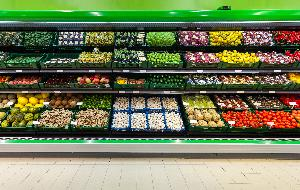apple: (76, 72, 114, 88)
bell_pepper: (272, 29, 300, 44), (282, 94, 300, 110), (286, 49, 300, 62), (288, 72, 300, 84)
cucumber: (148, 73, 184, 87)
lime: (81, 96, 112, 108)
peach: (5, 73, 41, 85), (1, 73, 9, 85)
pineapple: (0, 31, 22, 47)
tomato: (220, 110, 264, 128), (256, 110, 300, 128), (216, 50, 258, 64), (248, 96, 284, 112), (242, 30, 274, 48), (216, 96, 248, 113), (259, 51, 293, 67), (211, 31, 243, 47), (222, 73, 256, 87), (258, 73, 288, 87)
zucchini: (148, 52, 180, 66), (146, 32, 176, 46)
